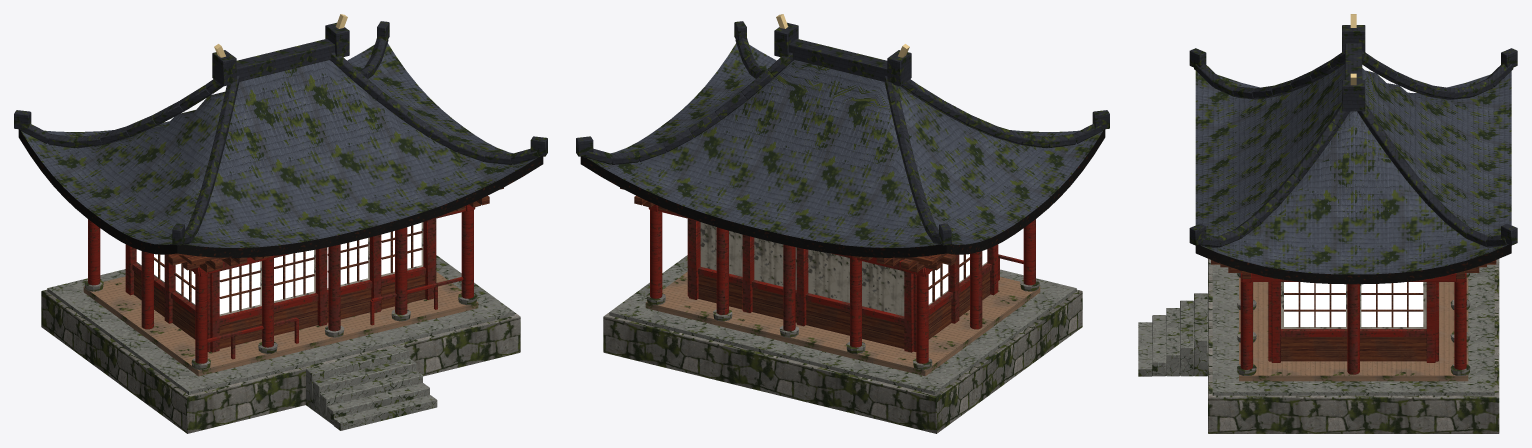
The model's file is Hall_Small.fbx.
The picture shows the model from 3 angles, left to right: view 1: azimuth 30°, elevation 25°; view 2: azimuth 150°, elevation 25°; view 3: azimuth 270°, elevation 25°; orthographic projection.
Parts seen in each view (by area): view 1: Hall_Small_LOD0; view 2: Hall_Small_LOD0; view 3: Hall_Small_LOD0.
Boxes of the visible parts, <box> form: Hall_Small_LOD0: <box>14,14,547,433</box>; Hall_Small_LOD0: <box>576,14,1109,433</box>; Hall_Small_LOD0: <box>1138,14,1517,433</box>.
Size of what is drawn, in the model's own units: 13.93 by 11.01 by 12.24.
